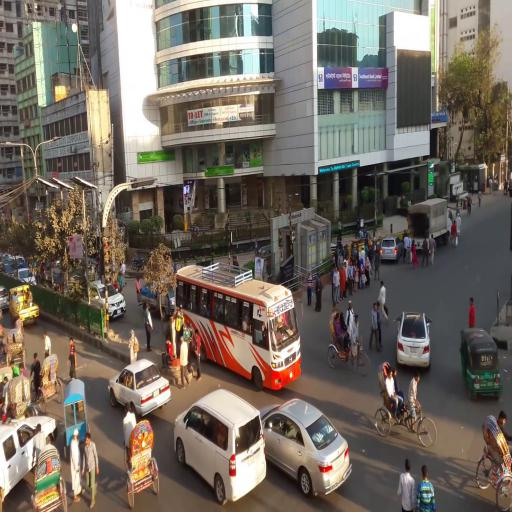army vehicle: (408, 195, 454, 260)
bus: (174, 260, 304, 391)
car: (261, 395, 356, 496), (108, 359, 172, 418), (396, 307, 433, 377), (90, 280, 127, 322), (380, 231, 403, 266), (13, 267, 39, 289)
minivan: (171, 385, 270, 506)
pickup: (9, 285, 42, 326)
policecar: (2, 411, 59, 482)
rickshaw: (372, 360, 440, 451), (477, 400, 512, 510), (123, 399, 162, 490), (327, 299, 369, 380), (32, 423, 68, 490), (64, 375, 91, 459), (30, 353, 66, 410), (3, 369, 38, 422), (6, 314, 28, 370)
three wheelers (CNG): (459, 320, 502, 400)
